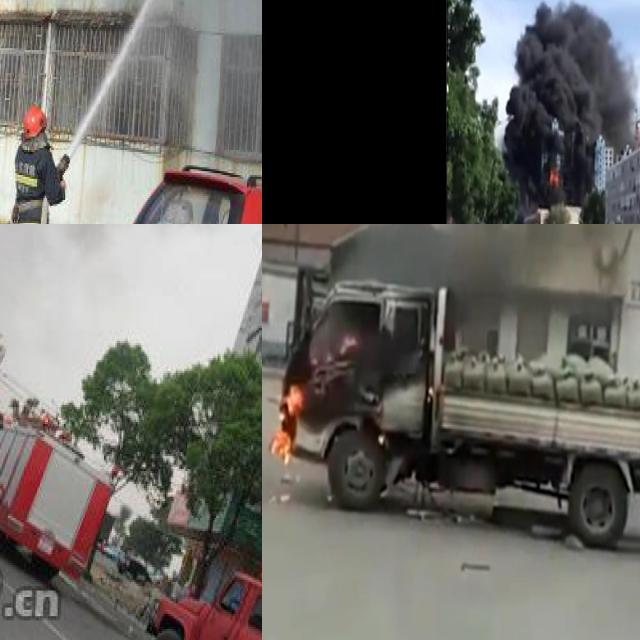fire: (269, 384, 302, 463), (548, 165, 558, 184)
smoke: (320, 224, 640, 367), (500, 0, 640, 203)
